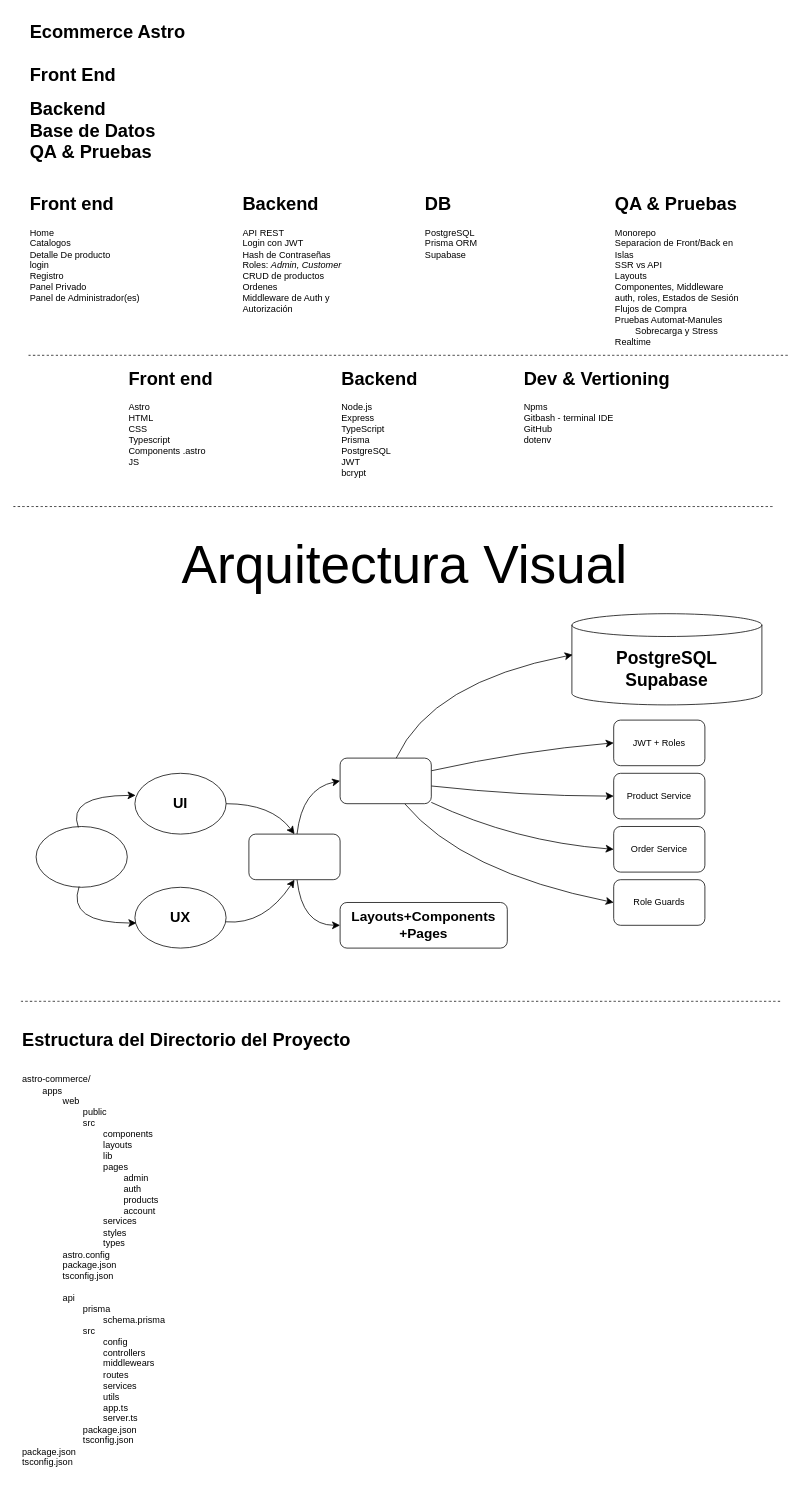
This 803x1487 diagram has some shape labels left out. Each missing label, with the centre of its shape:
"API Express" goes at point (385, 780).
"Astro" goes at point (294, 856).
"Usuario" goes at point (81, 856).
